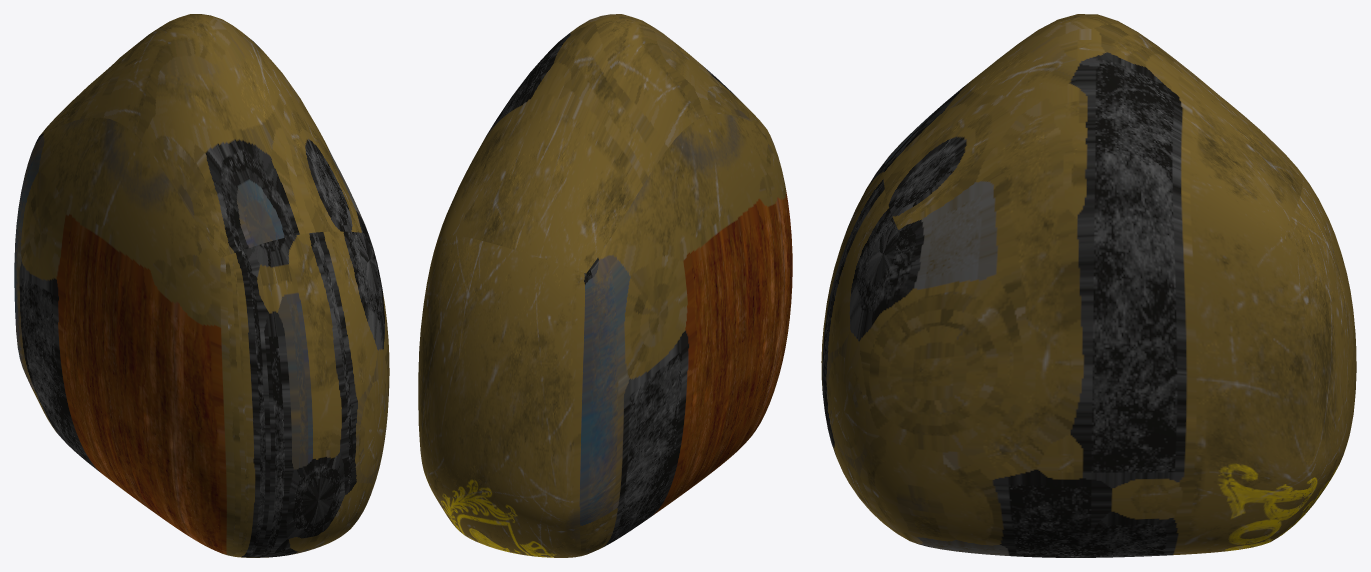
The model's file is torch startup flame mesh.obj.
3 renders of one model, left to right at view 1: azimuth 30°, elevation 25°; view 2: azimuth 150°, elevation 25°; view 3: azimuth 270°, elevation 25°, orthographic. The views are drawn at different scales.
Parts seen in each view (by area): view 1: blowtorch_startup_flame; view 2: blowtorch_startup_flame; view 3: blowtorch_startup_flame.
Part boxes in pixels (left/top/right/bottom): blowtorch_startup_flame: left=14, top=14, right=389, bottom=557; blowtorch_startup_flame: left=418, top=14, right=792, bottom=557; blowtorch_startup_flame: left=821, top=14, right=1356, bottom=557.
Size of the model in its own units: 0.0643 by 0.1301 by 0.1229.
